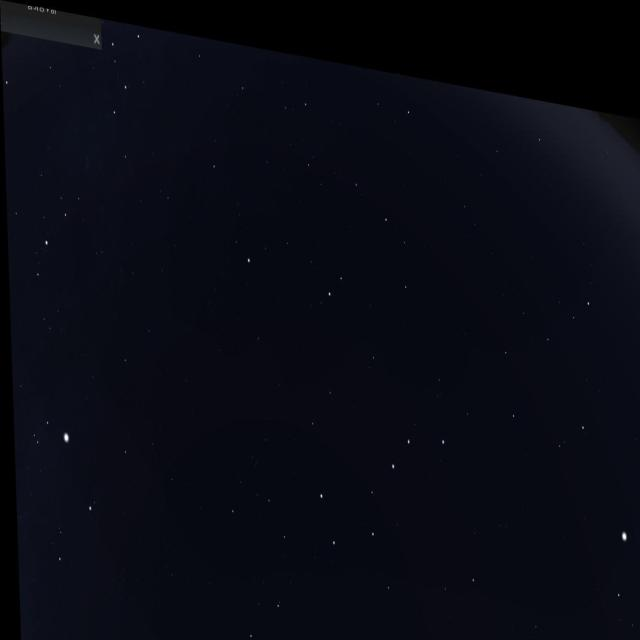cassiopeia: (96, 14, 151, 180)
ursa_major: (312, 396, 449, 557)
